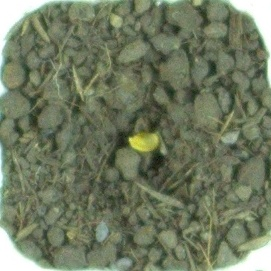chilli seed: (125, 129, 162, 153)
